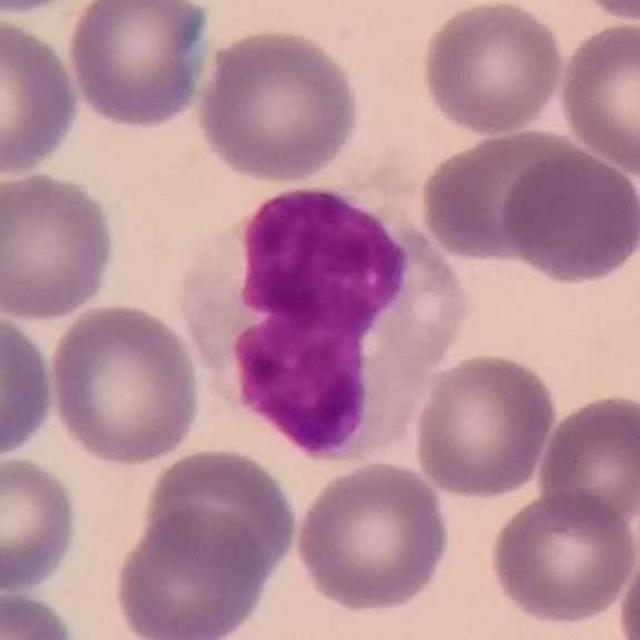Monocyte: (172, 188, 470, 456)
RBC: (192, 22, 366, 187), (44, 298, 206, 470), (292, 458, 453, 616), (415, 123, 593, 265), (408, 348, 559, 502), (109, 503, 276, 640), (138, 444, 302, 582), (485, 488, 640, 628), (416, 0, 568, 138), (496, 143, 640, 287), (63, 0, 216, 132), (0, 167, 120, 324), (533, 389, 640, 531), (0, 11, 85, 182), (554, 15, 640, 182), (0, 451, 82, 595), (0, 306, 58, 464), (0, 585, 80, 640), (615, 535, 640, 639), (1, 0, 104, 18), (565, 0, 639, 24)
